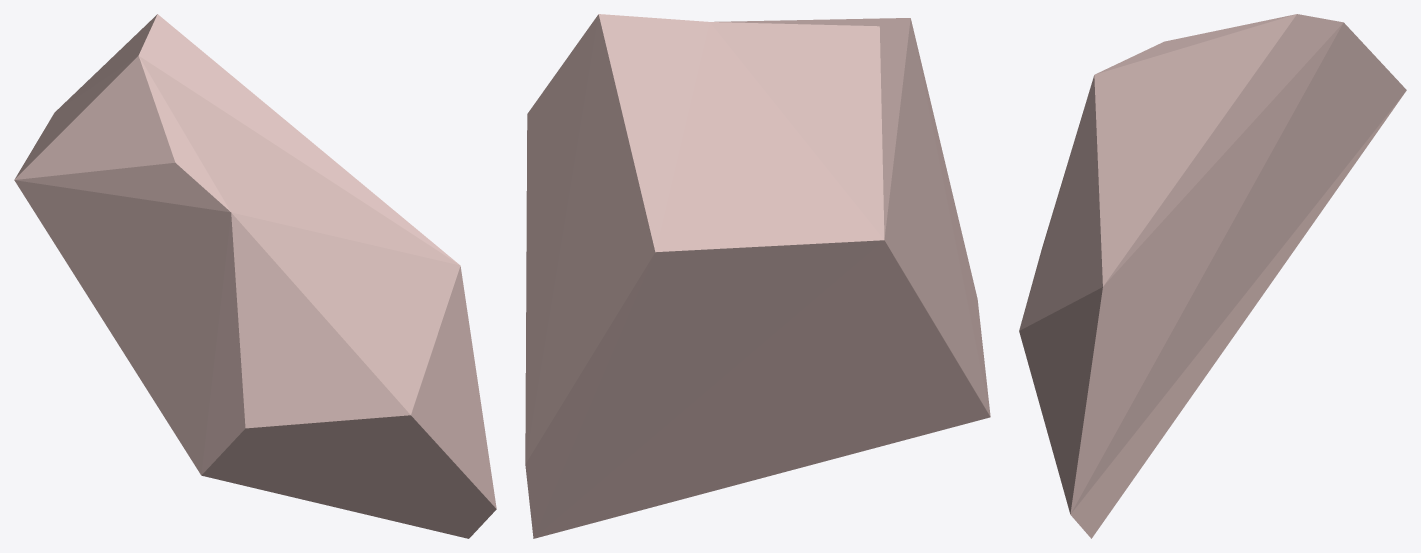
3 renders of one model, left to right at view 1: azimuth 30°, elevation 25°; view 2: azimuth 150°, elevation 25°; view 3: azimuth 270°, elevation 25°, orthographic. The views are drawn at different scales.
Visible parts, largest first — view 1: Object32; view 2: Object32; view 3: Object32.
Boxes of the visible parts, x1,y1,x2,y2 form: Object32: (14, 14, 496, 538); Object32: (525, 14, 990, 538); Object32: (1019, 14, 1406, 538).
Size of the model in its own units: 13230 by 16788 by 13514.
